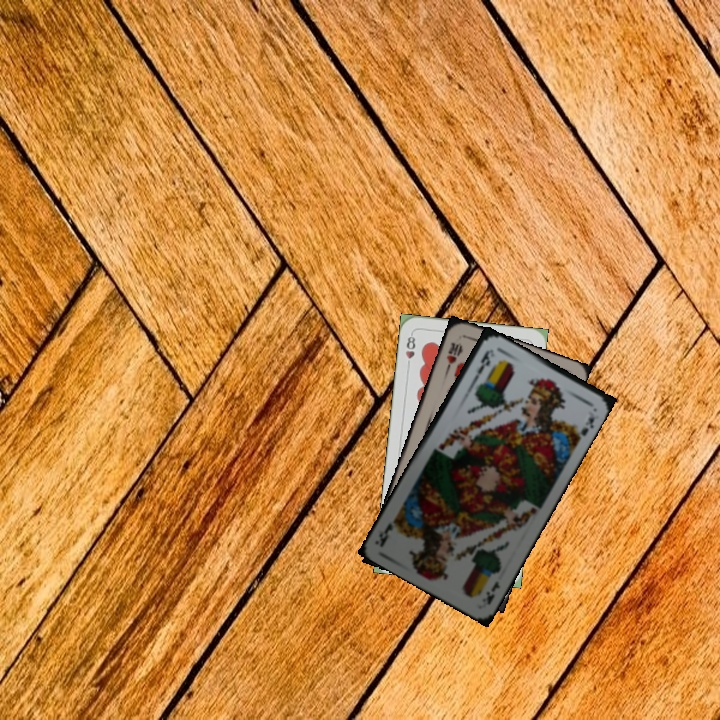EK: (469, 346, 493, 384), (482, 577, 503, 608)
H10: (442, 338, 465, 374)
H8: (402, 330, 418, 370)
